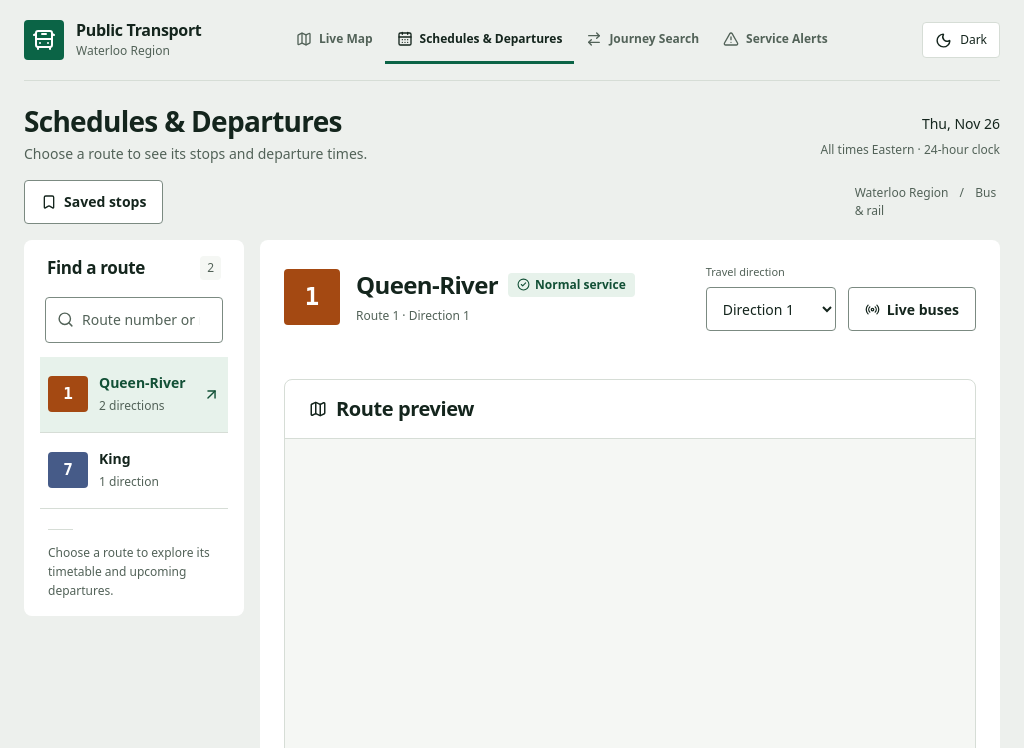
Scenario: searches between two locations and displays direct and connecting itinerary options
The width and height of the screenshot is (1024, 748).
Earlier steps of the test are not shown.
Click the tab "Journey Search" at (643, 40), box [574, 16, 711, 64]
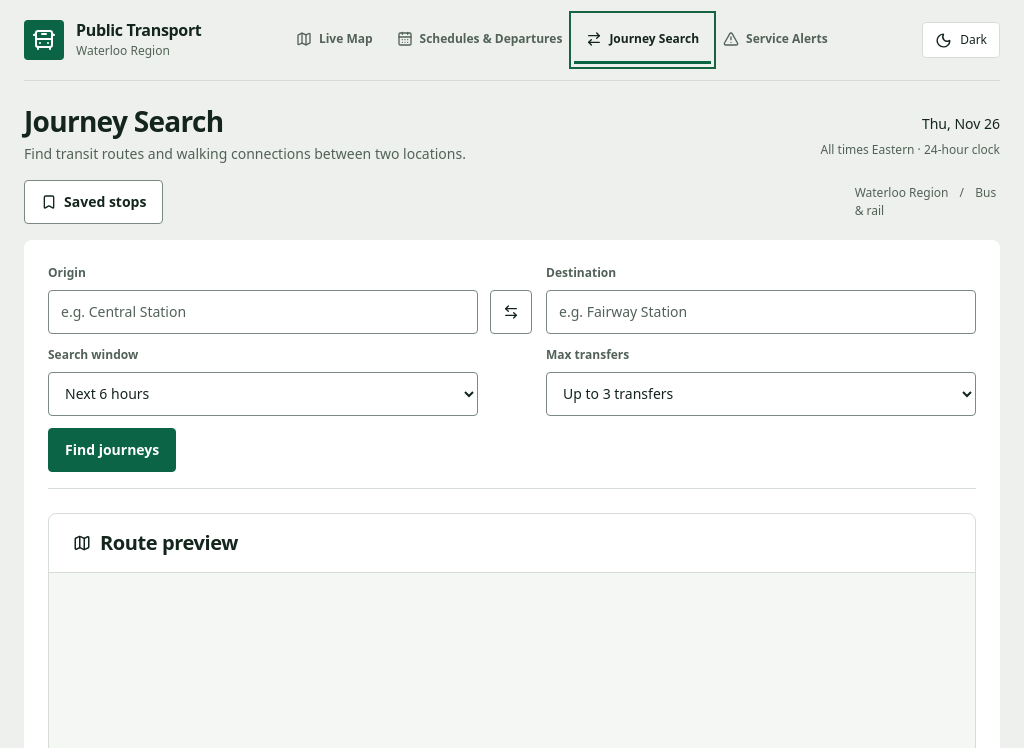
Check: the search field labelled "Search routes by number or name" is not shown
Check: the heading "Journey Search" is shown, box [24, 102, 223, 140]
Check: the button "Queen-River" is gone
Type "Fairway Station" into the search field labelled "Origin" at (263, 312), box [48, 290, 478, 334]
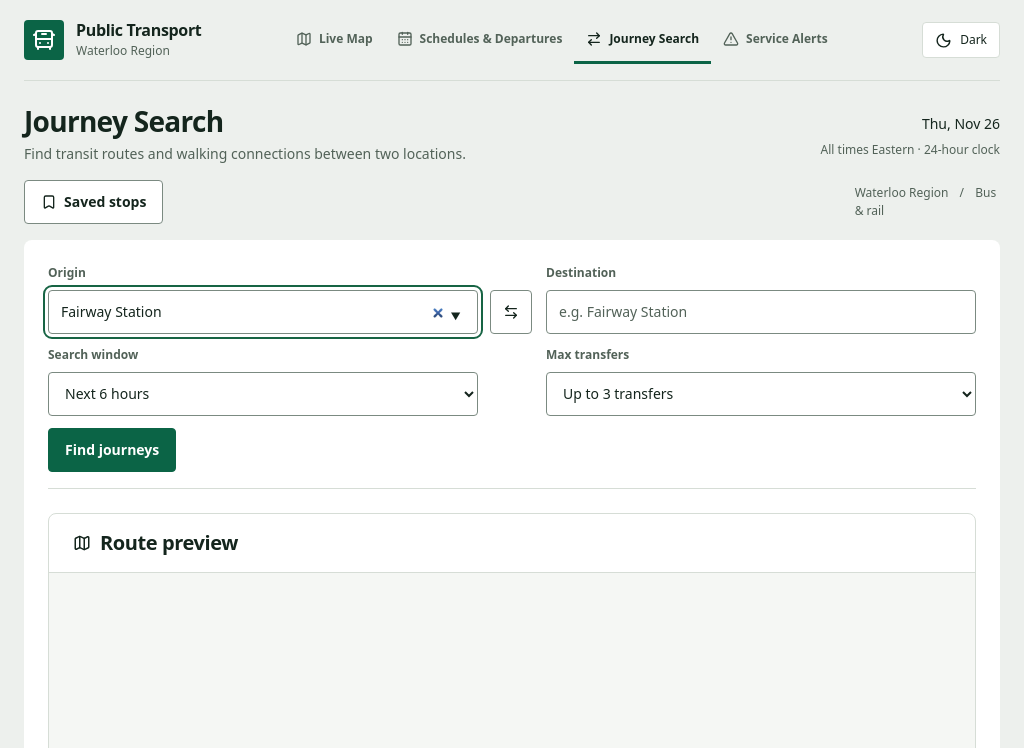
Type "Central Station" into the search field labelled "Destination" at (761, 312), box [546, 290, 976, 334]
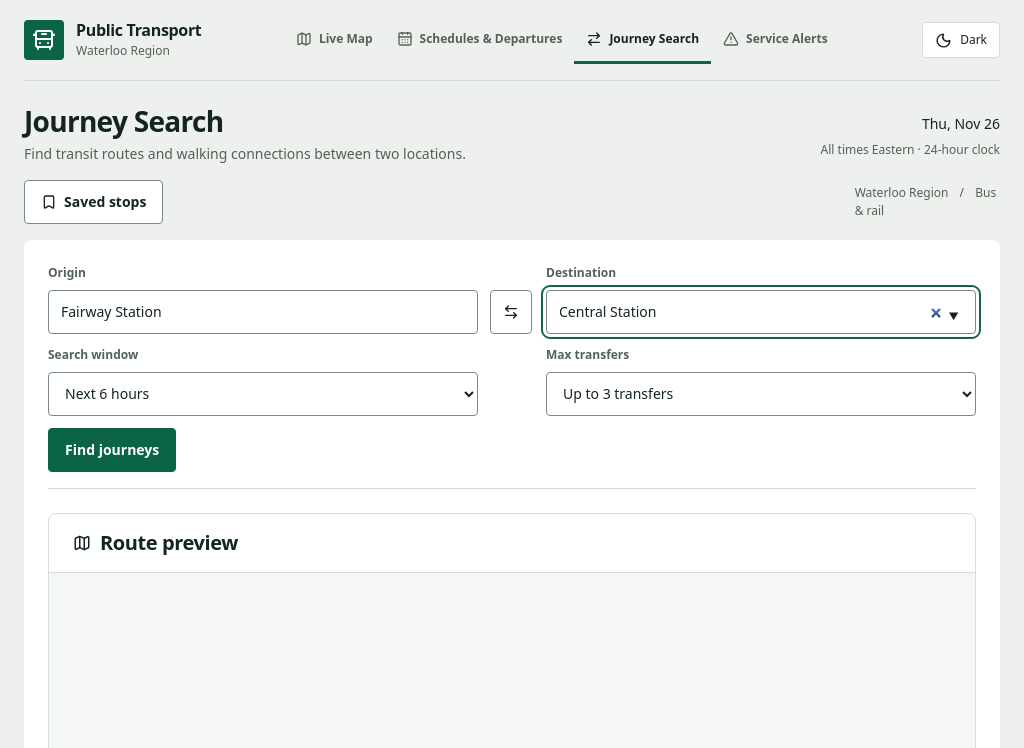
Click the button named "Swap origin and destination" at (511, 312), box [490, 290, 532, 334]
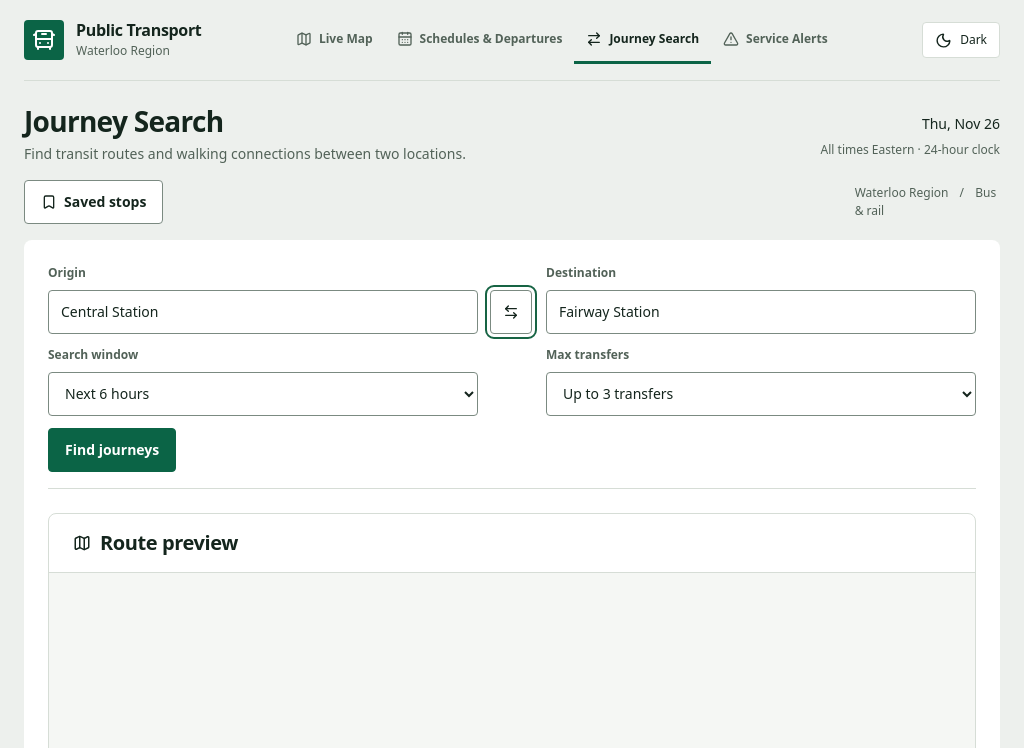
Check: the search field labelled "Origin" holds "Central Station", box [48, 290, 478, 334]
Check: the search field labelled "Destination" holds "Fairway Station", box [546, 290, 976, 334]
Select "Next 2 hours" in the dropdown labelled "Search window" at (263, 394), box [48, 372, 478, 416]
Select "Up to 2 transfers" in the dropdown labelled "Max transfers" at (761, 394), box [546, 372, 976, 416]
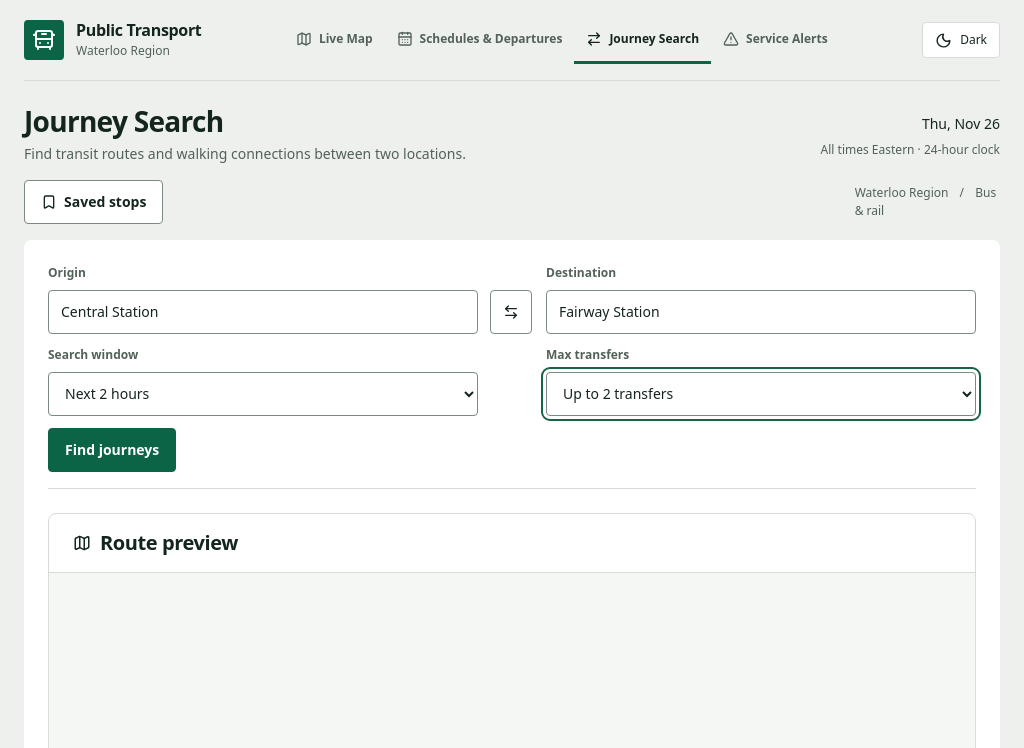
Click the button "Find journeys" at (112, 450), box [48, 428, 176, 472]
(page scrolled)
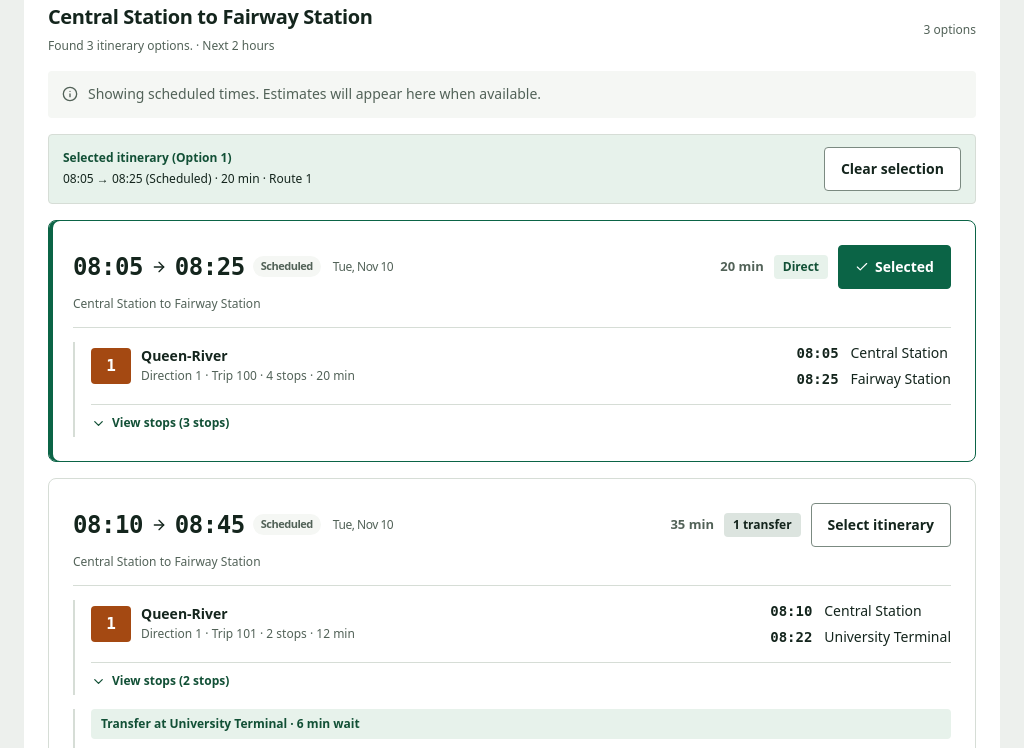
Check: the heading "Central Station to Fairway Station" is shown, box [48, 4, 372, 30]
Check: the text "Direct" is shown, box [774, 255, 828, 279]
Check: the text "20 min" is shown, box [720, 257, 764, 276]
